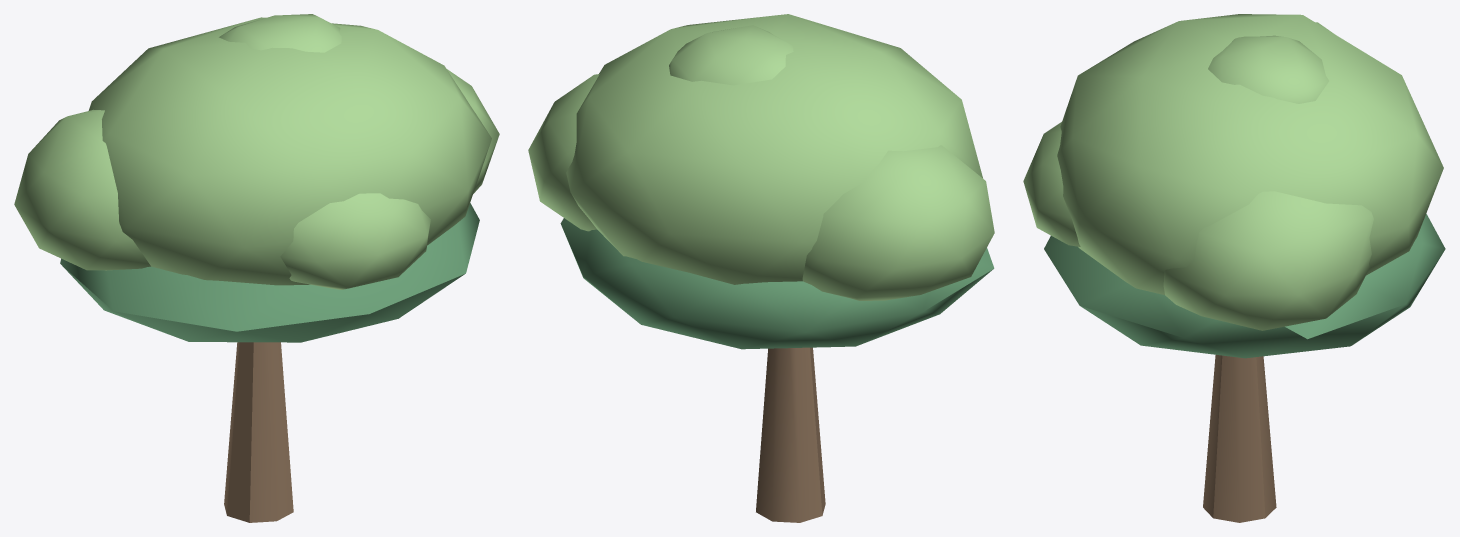
Rendered from hearthvale_oak.glb.
3 views of the same model, side by side, from view 1: azimuth 30°, elevation 25°; view 2: azimuth 150°, elevation 25°; view 3: azimuth 270°, elevation 25° (orthographic).
Visible parts, largest first — view 1: hv_tree_oak; view 2: hv_tree_oak; view 3: hv_tree_oak.
Part boxes in pixels (x1,y1,x2,y2): hv_tree_oak: (14,14,499,522); hv_tree_oak: (528,14,994,522); hv_tree_oak: (1023,14,1445,522).
Size of the model in its own units: 4.52 by 4.58 by 3.67.
